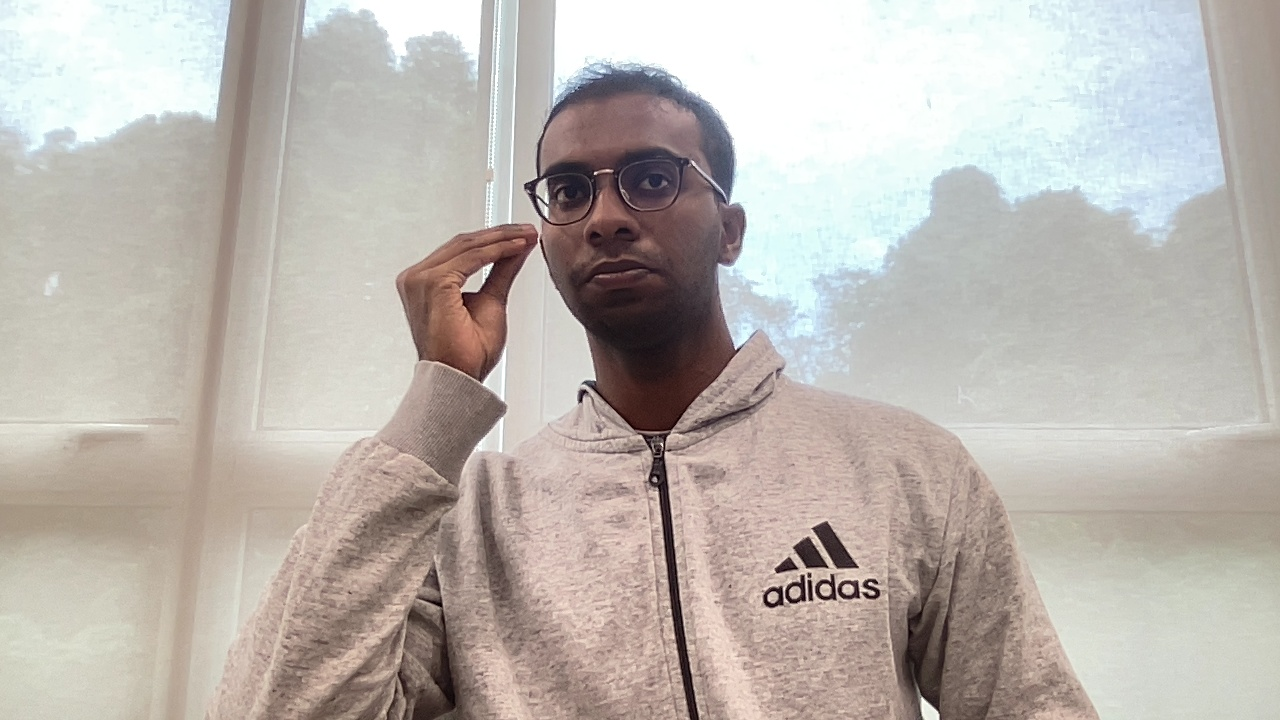eat: (390, 218, 542, 371)
